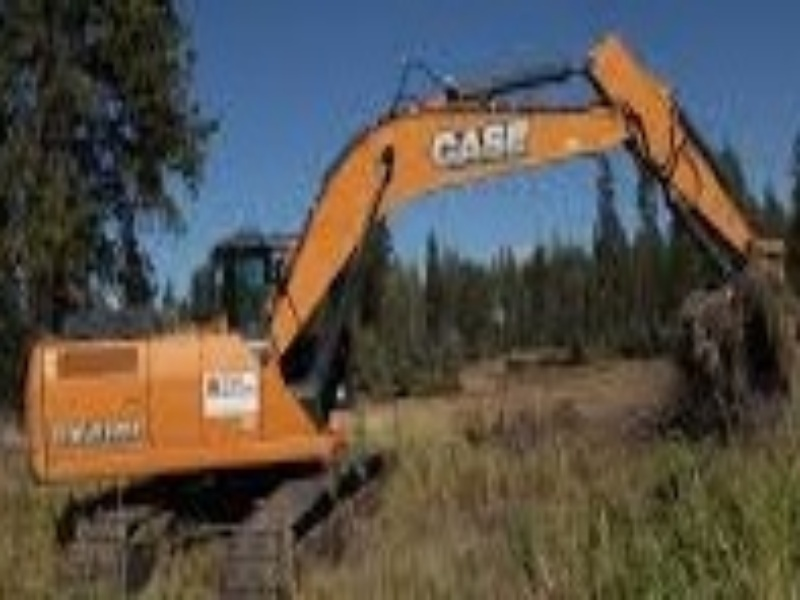wajueji: (6, 164, 492, 600)
